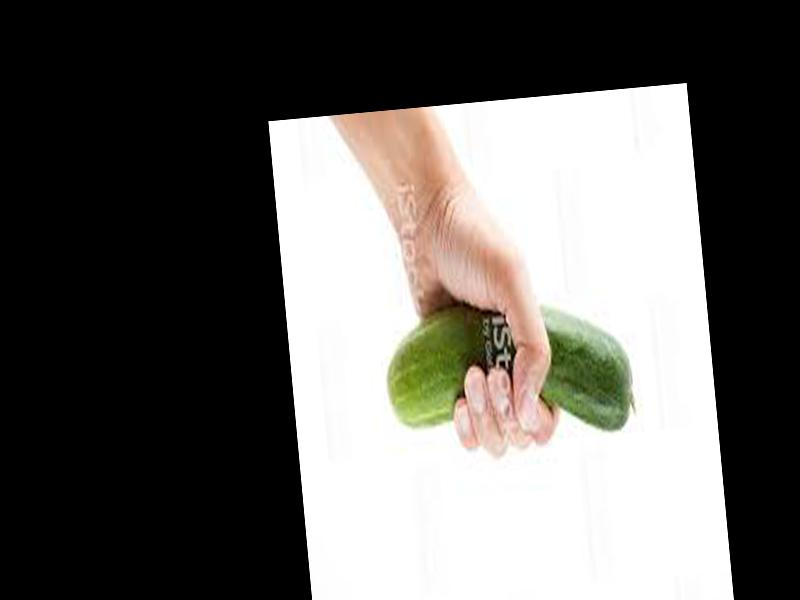Cucumber: (381, 288, 636, 454)
